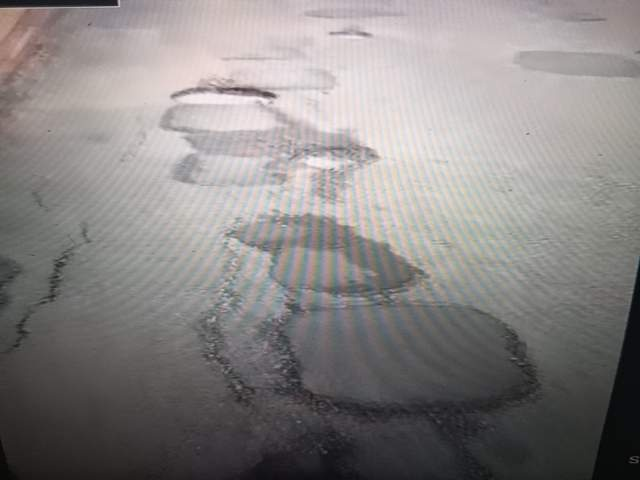pothole: (103, 403, 310, 480)
